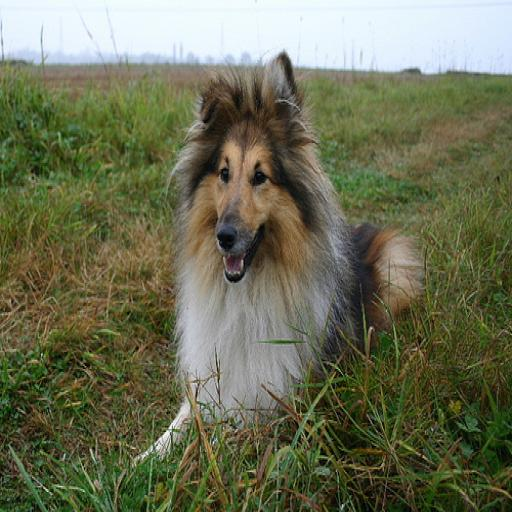dog_face: (196, 55, 303, 294)
